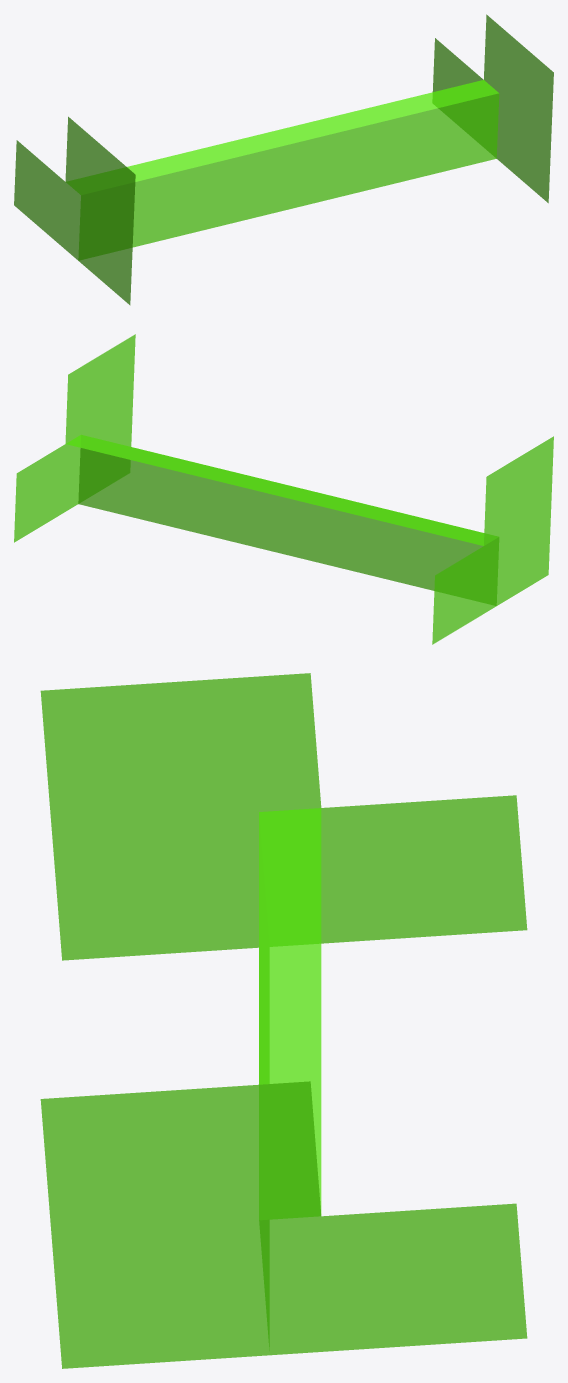
Rendered from original-4.obj.
3 renders of one model, top to bottom at view 1: azimuth 30°, elevation 25°; view 2: azimuth 150°, elevation 25°; view 3: azimuth 270°, elevation 25°, orthographic. The views are drawn at different scales.
Parts seen in each view (by area): view 1: mesh1/mesh1-geometry/material_1#mesh1-geometry; view 2: mesh1/mesh1-geometry/material_1#mesh1-geometry; view 3: mesh1/mesh1-geometry/material_1#mesh1-geometry.
Boxes of the visible parts, bbox=[...] form: mesh1/mesh1-geometry/material_1#mesh1-geometry: bbox=[14, 14, 553, 305]; mesh1/mesh1-geometry/material_1#mesh1-geometry: bbox=[14, 334, 553, 644]; mesh1/mesh1-geometry/material_1#mesh1-geometry: bbox=[40, 673, 527, 1368].
Bounding box in the file's own units: 0.067 × 0.022 × 0.0338.
